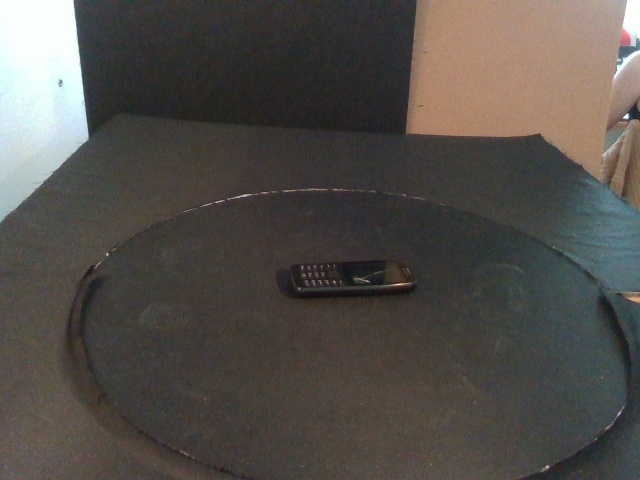phone: (289, 259, 419, 299)
